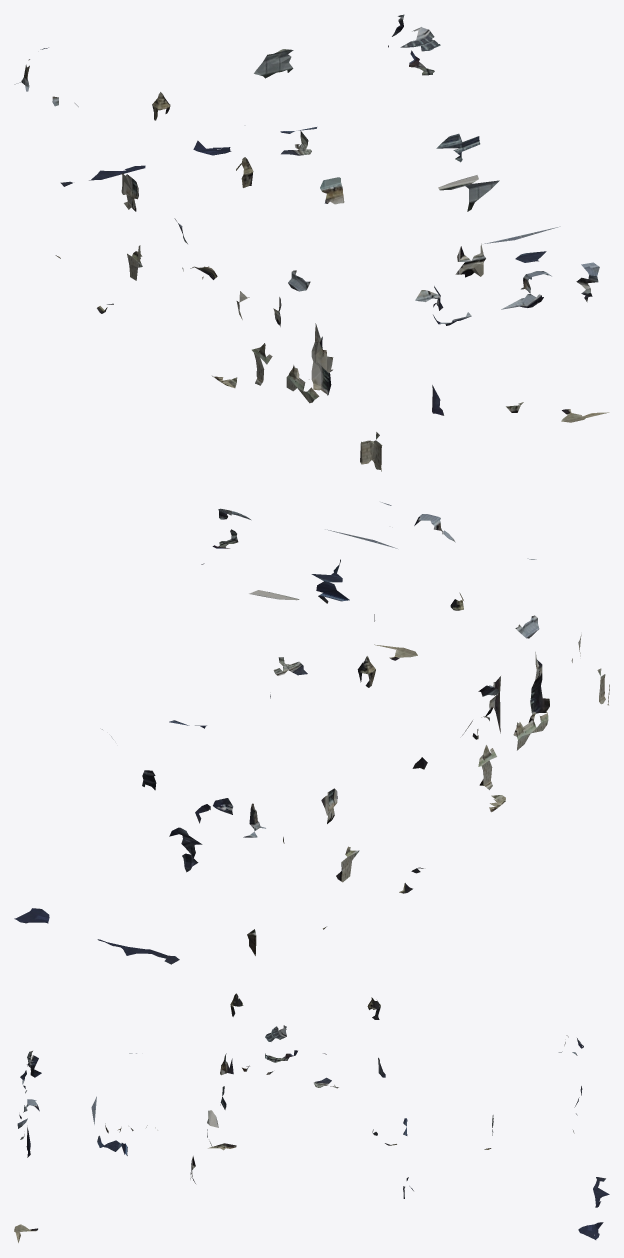
The model's file is hero-reichstag-3894_58196-material-3.glb.
3 views of the same model, one above another, from view 1: azimuth 30°, elevation 25°; view 2: azimuth 150°, elevation 25°; view 3: azimuth 270°, elevation 25° (orthographic). The views are drawn at different scales.
Parts seen in each view (by area): view 1: world; view 2: world; view 3: world.
Boxes of the visible parts, left/top/right/bottom form: world: left=14, top=14, right=609, bottom=471; world: left=14, top=502, right=609, bottom=964; world: left=14, top=993, right=609, bottom=1242.
Size of the model in its own units: 62.64 by 55.91 by 141.
1 material, 1 textured.
